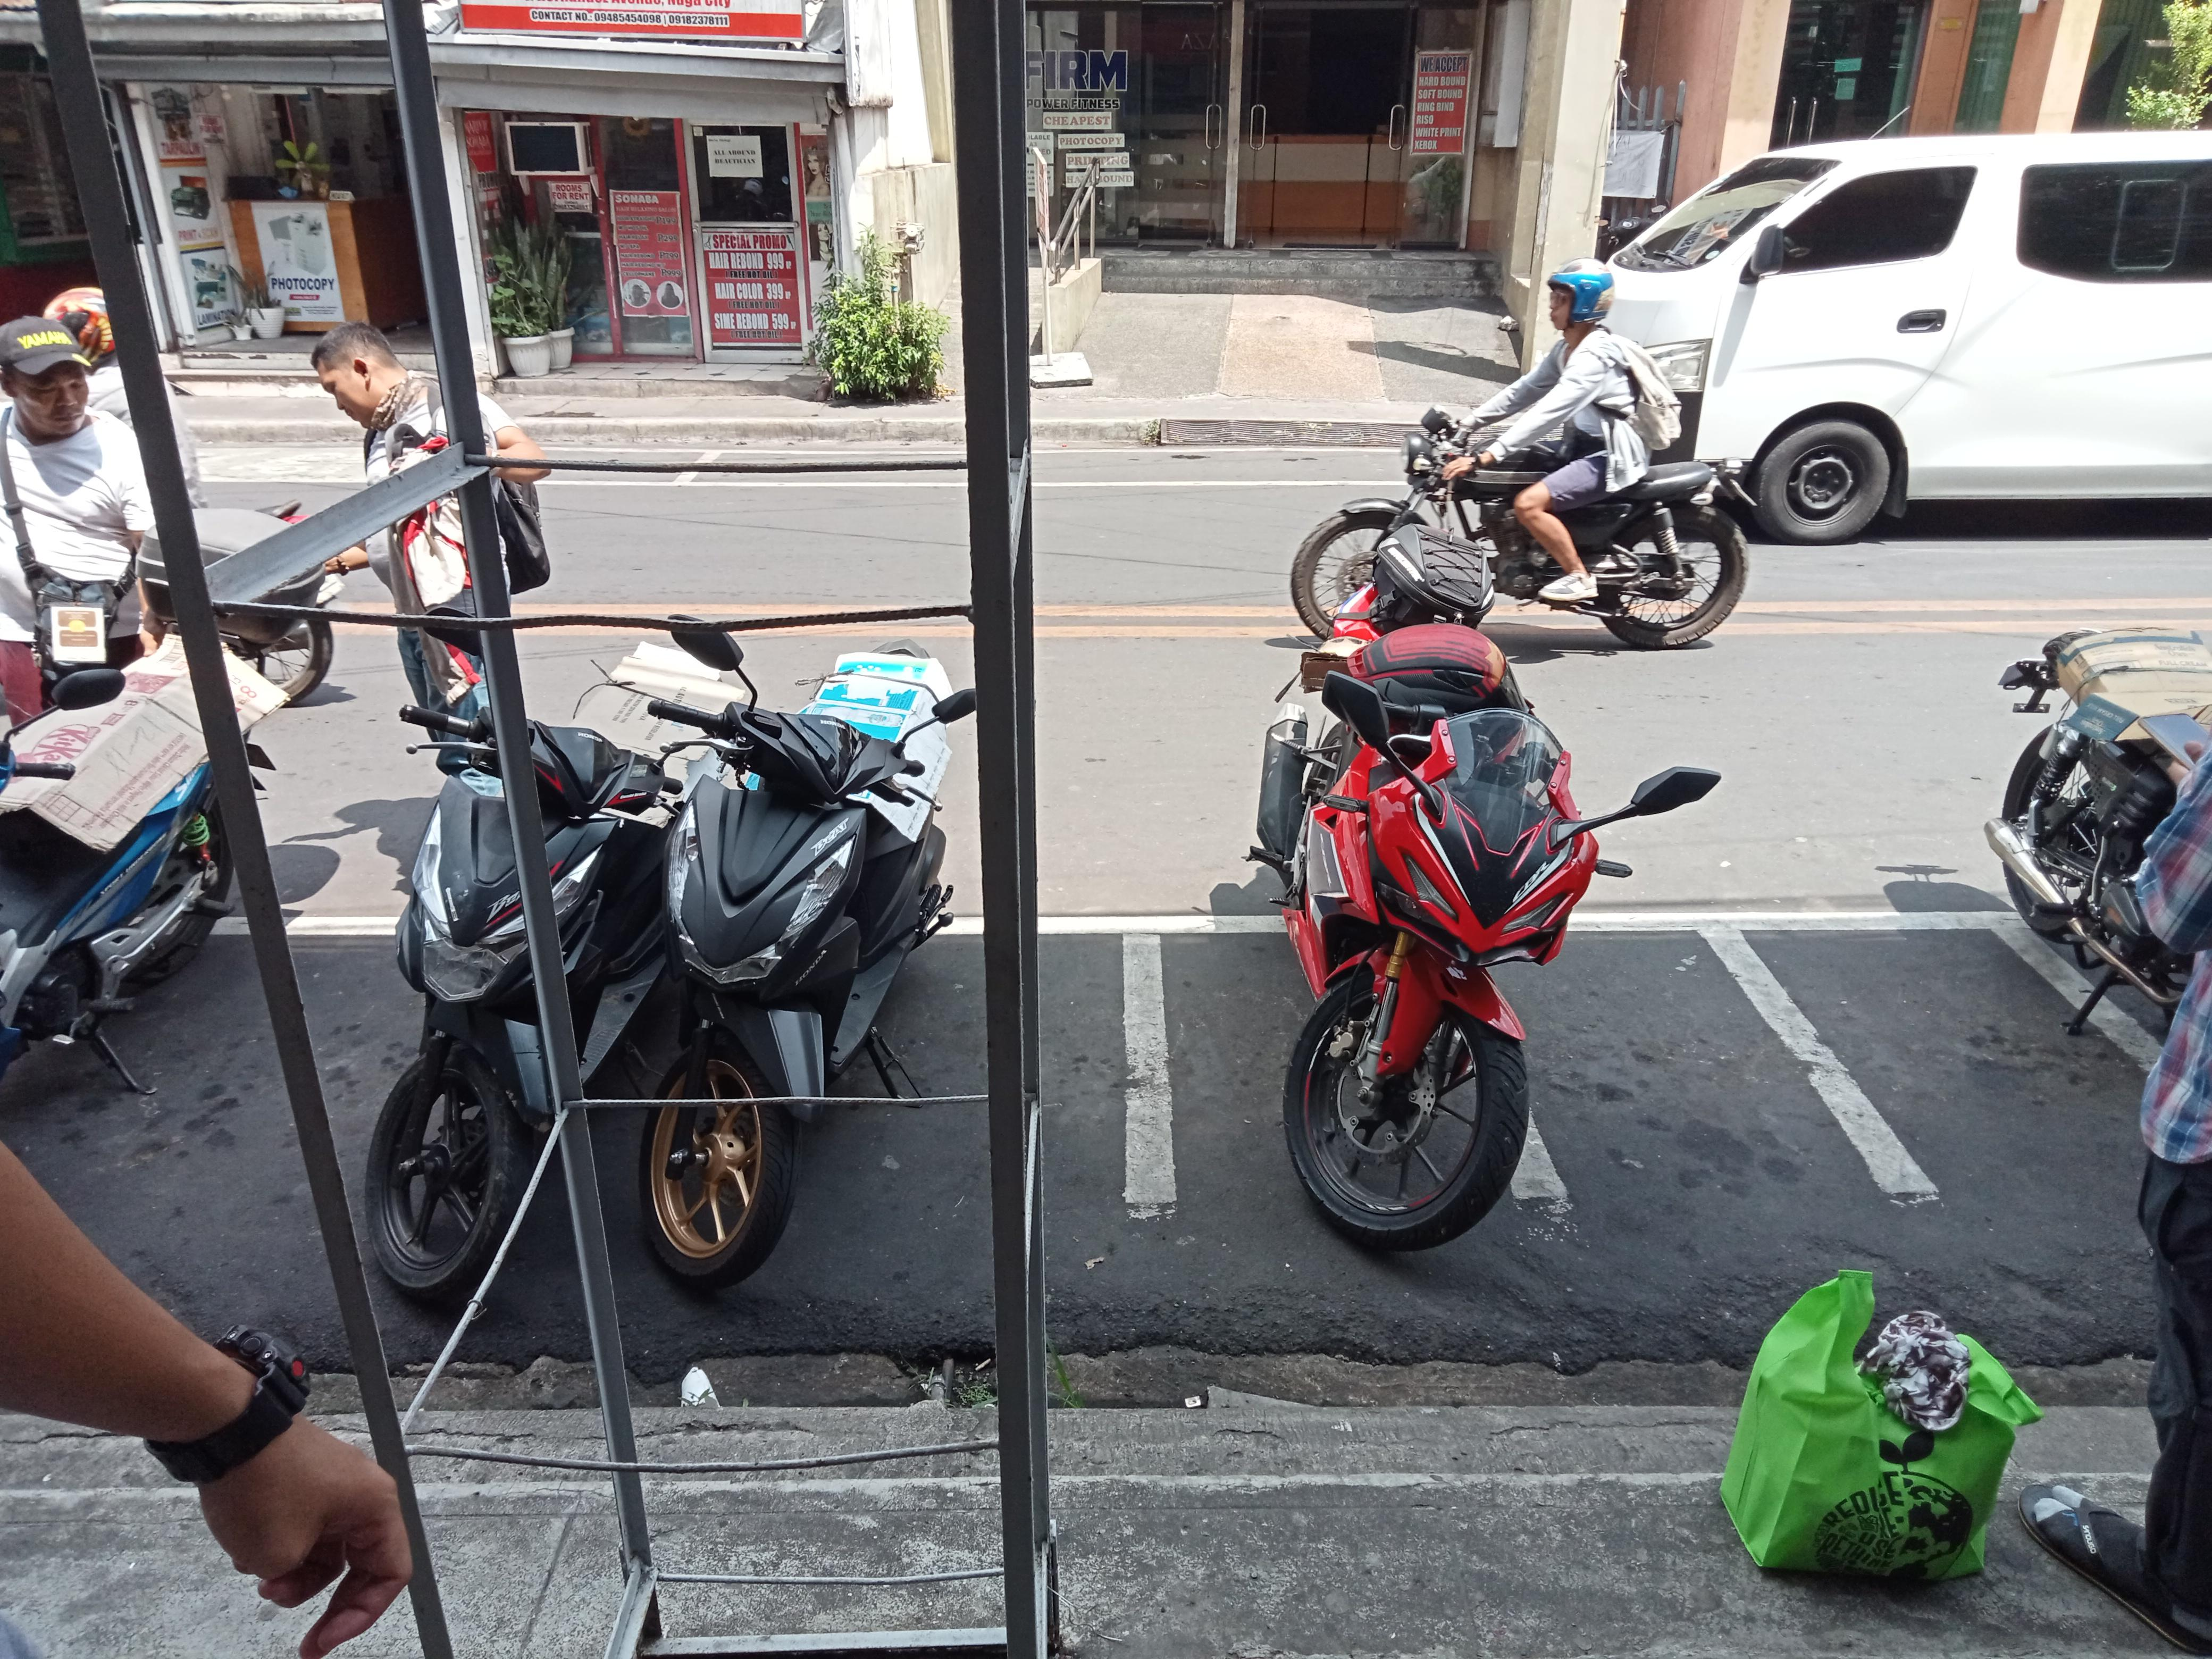occupied: (1118, 911, 1575, 1222)
vacant: (1686, 915, 2212, 1209), (1433, 915, 1947, 1211)
